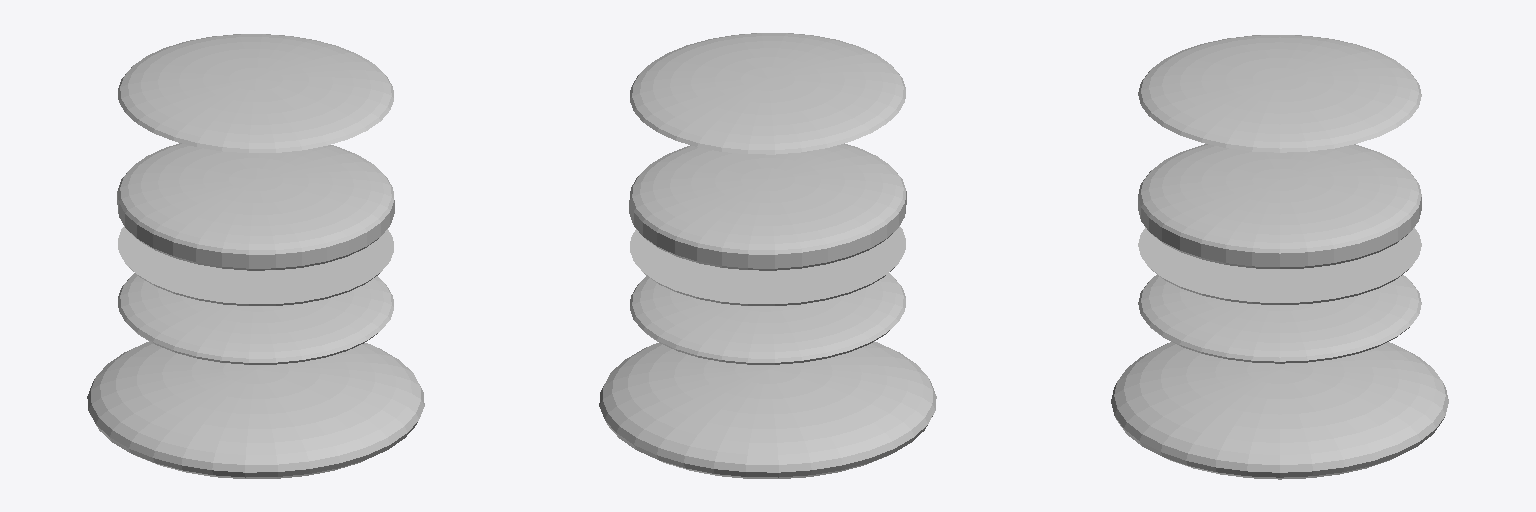
Rendered from lenses.obj.
The picture shows the model from 3 angles: view 1: azimuth 30°, elevation 25°; view 2: azimuth 150°, elevation 25°; view 3: azimuth 270°, elevation 25°; orthographic projection.
Visible parts, largest first — view 1: Sphere, Sphere.003, Sphere.004, Sphere.001, Sphere.002; view 2: Sphere, Sphere.003, Sphere.004, Sphere.001, Sphere.002; view 3: Sphere, Sphere.003, Sphere.004, Sphere.001, Sphere.002.
Boxes of the visible parts, x1,y1,x2,y2 form: Sphere: [87, 341, 424, 478]; Sphere.003: [117, 143, 394, 270]; Sphere.004: [118, 34, 393, 152]; Sphere.001: [118, 273, 393, 364]; Sphere.002: [118, 226, 393, 305]; Sphere: [599, 341, 936, 478]; Sphere.003: [629, 143, 906, 270]; Sphere.004: [630, 33, 905, 154]; Sphere.001: [630, 273, 905, 364]; Sphere.002: [630, 226, 905, 305]; Sphere: [1111, 342, 1448, 479]; Sphere.003: [1138, 144, 1421, 268]; Sphere.004: [1138, 35, 1421, 152]; Sphere.001: [1138, 275, 1421, 363]; Sphere.002: [1138, 227, 1421, 304].
Size of the model in its own units: 2 by 2.31 by 2.